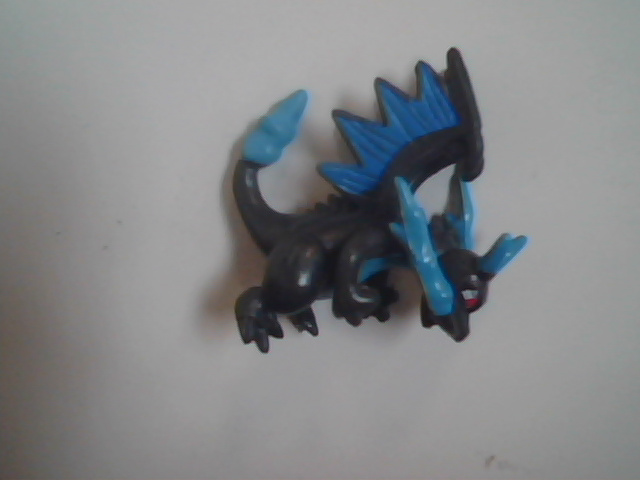charizard: (169, 25, 542, 393)
